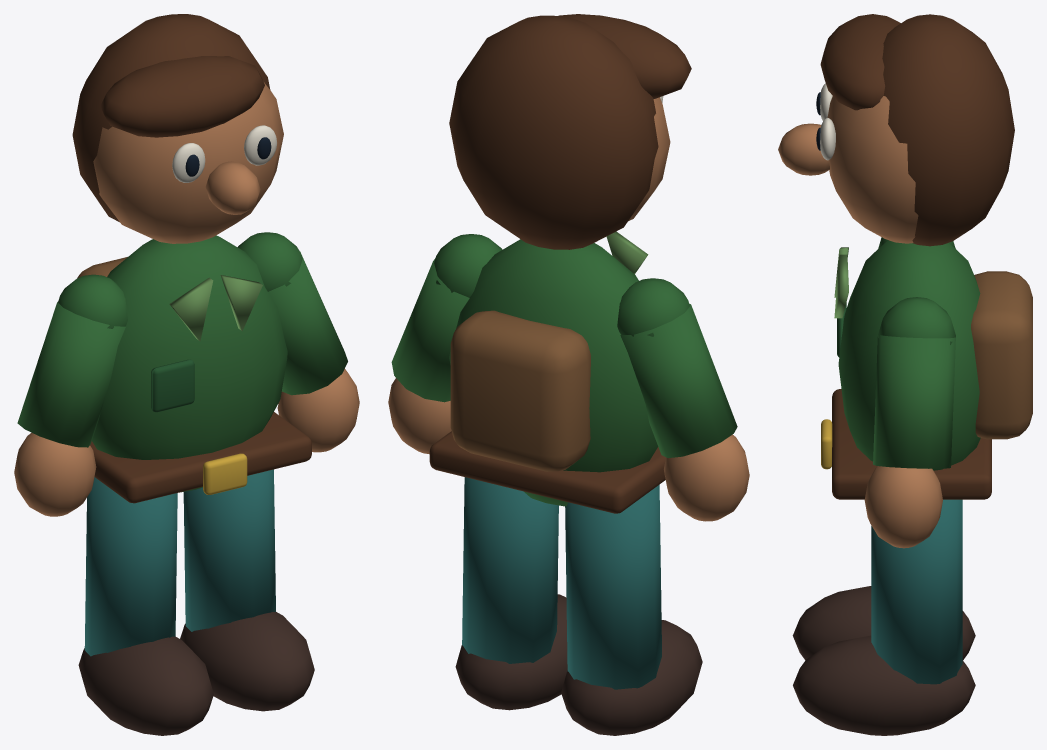
The model's file is wurstii-rollercoaster-tycoon-guest.glb.
3 renders of one model, left to right at view 1: azimuth 30°, elevation 25°; view 2: azimuth 150°, elevation 25°; view 3: azimuth 270°, elevation 25°, orthographic. The views are drawn at different scales.
Visible parts, largest first — view 1: wurstii-rollercoaster-tycoon-guest_geometry; view 2: wurstii-rollercoaster-tycoon-guest_geometry; view 3: wurstii-rollercoaster-tycoon-guest_geometry.
Boxes of the visible parts, x1,y1,x2,y2 form: wurstii-rollercoaster-tycoon-guest_geometry: (14, 14, 359, 735); wurstii-rollercoaster-tycoon-guest_geometry: (388, 14, 749, 735); wurstii-rollercoaster-tycoon-guest_geometry: (778, 14, 1032, 735).
Size of the model in its own units: 0.4591 by 0.88 by 0.2984.
